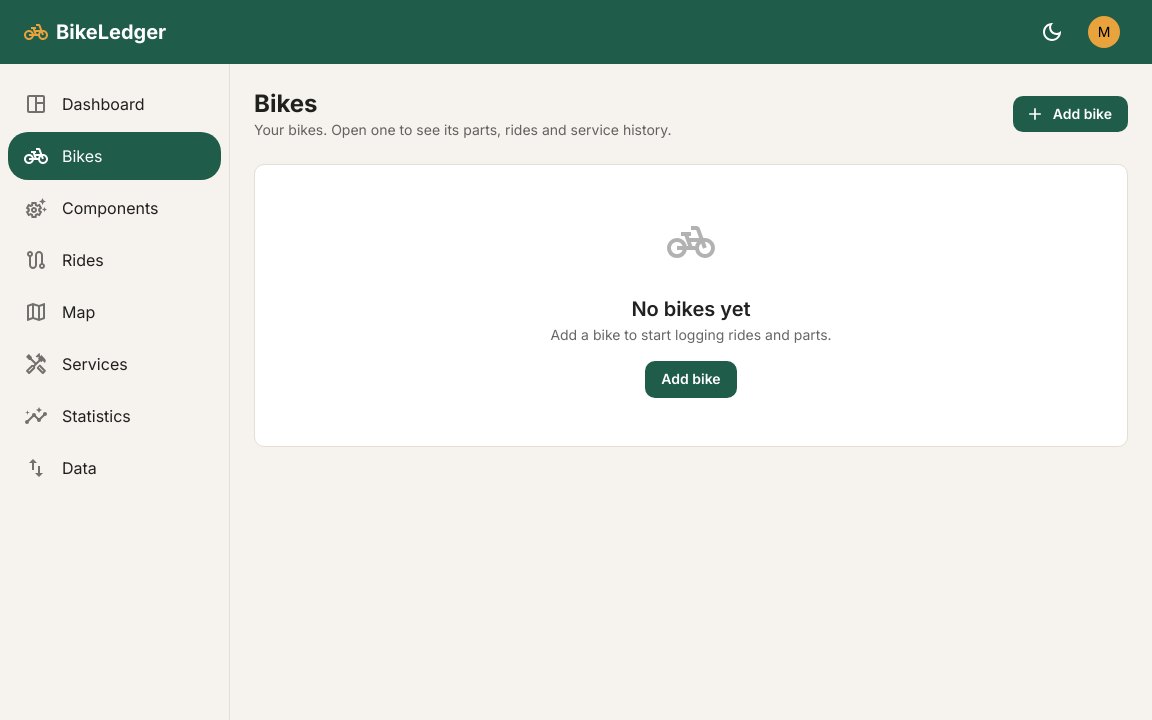
Test case: routing and access control › logging out returns to the login page
This screenshot has width=1152, height=720.
Click the button named "User menu" at (1104, 32), box 1080,8 -> 1128,56
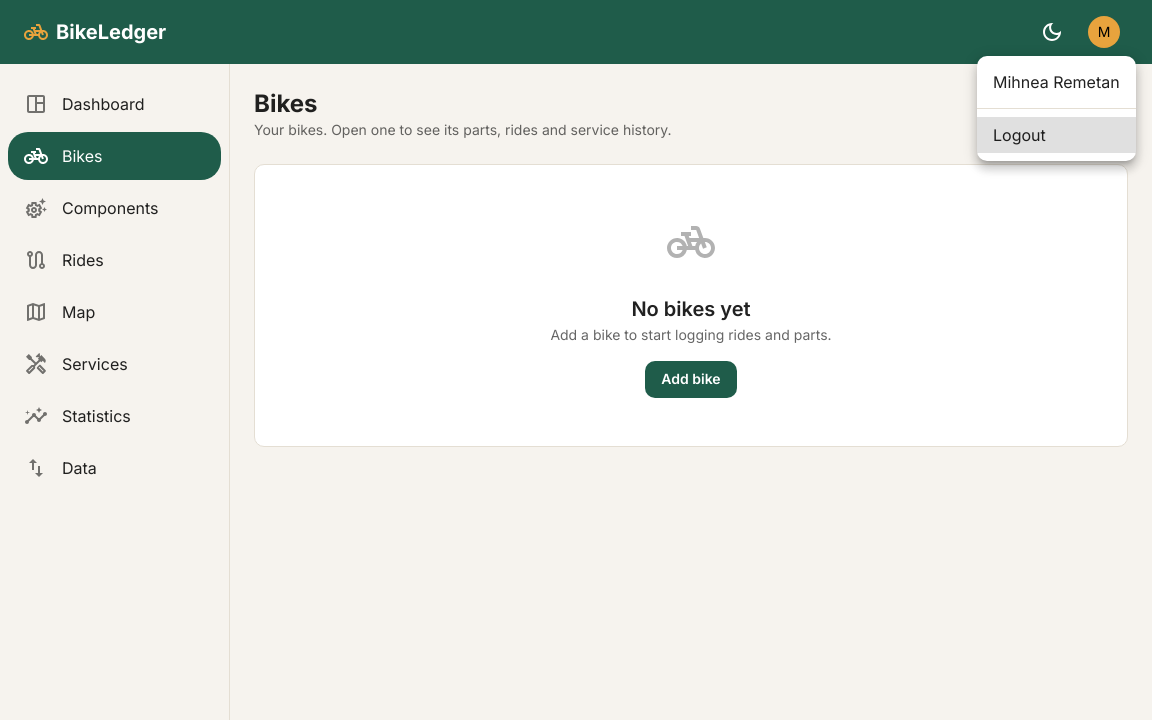
Click the menu item "Logout" at (1056, 135), box 977,117 -> 1136,153
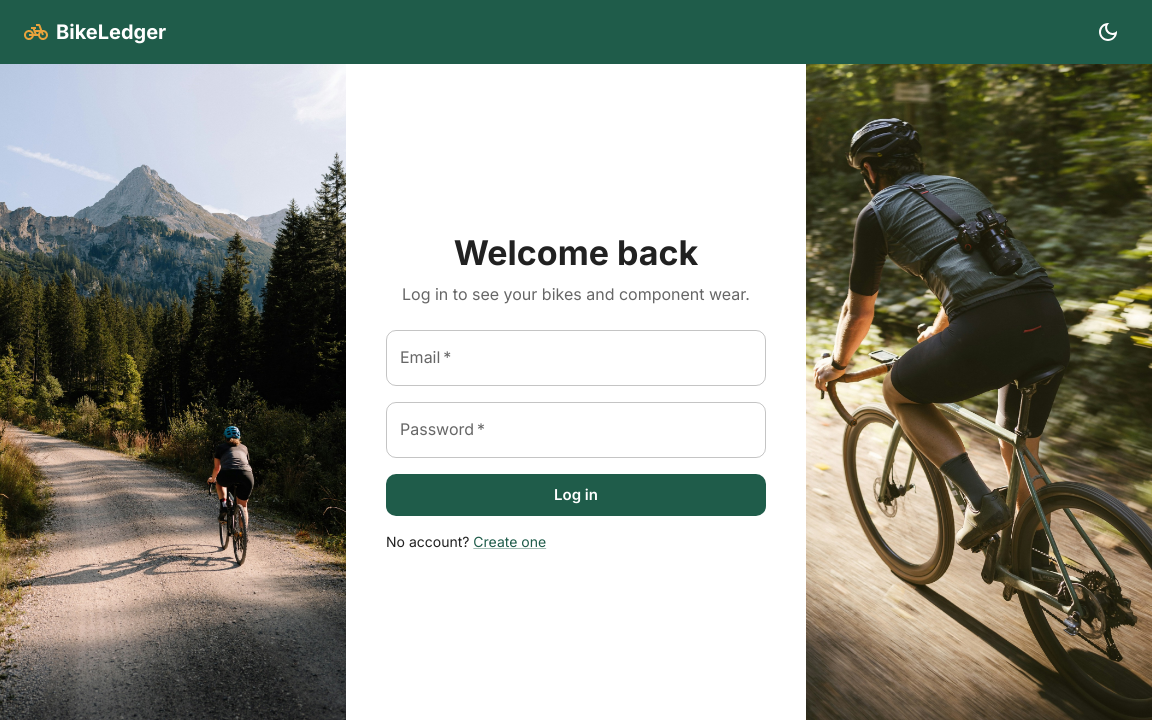
Result: the heading "Welcome back" is shown at 454,232 -> 698,273
